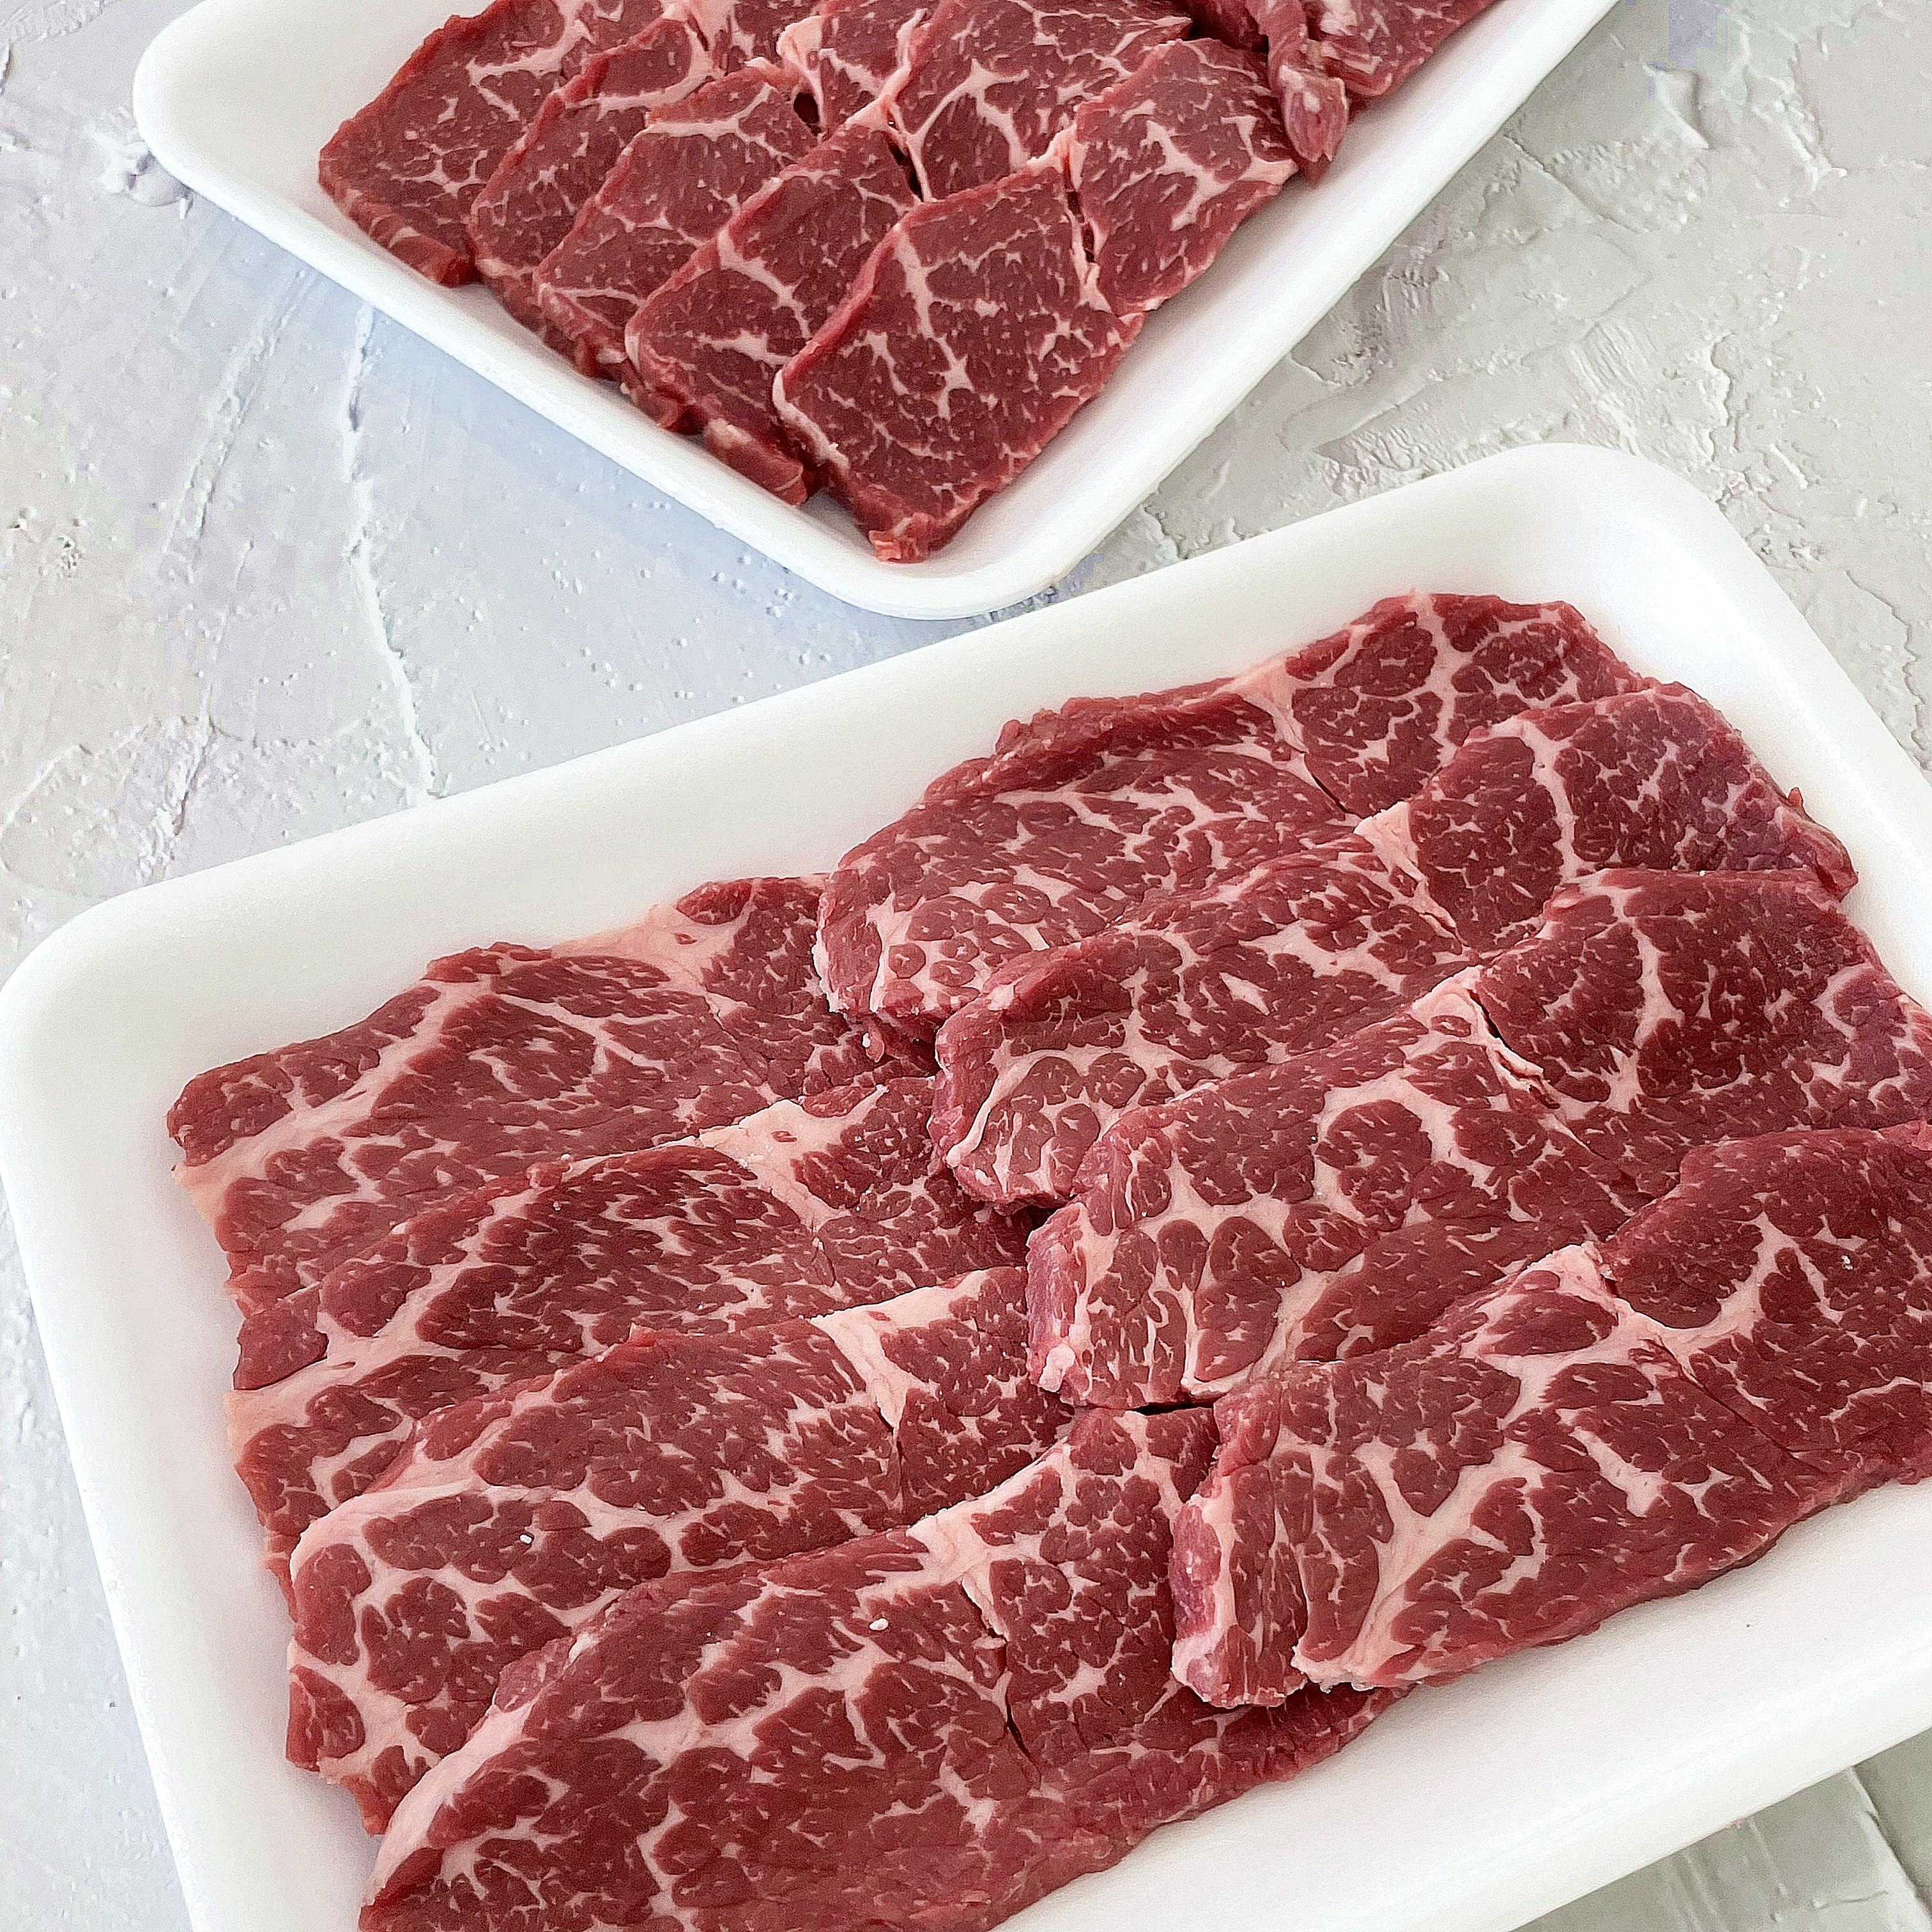beef: (966, 529, 1932, 1932), (966, 966, 1932, 1932), (966, 966, 1932, 1932)
